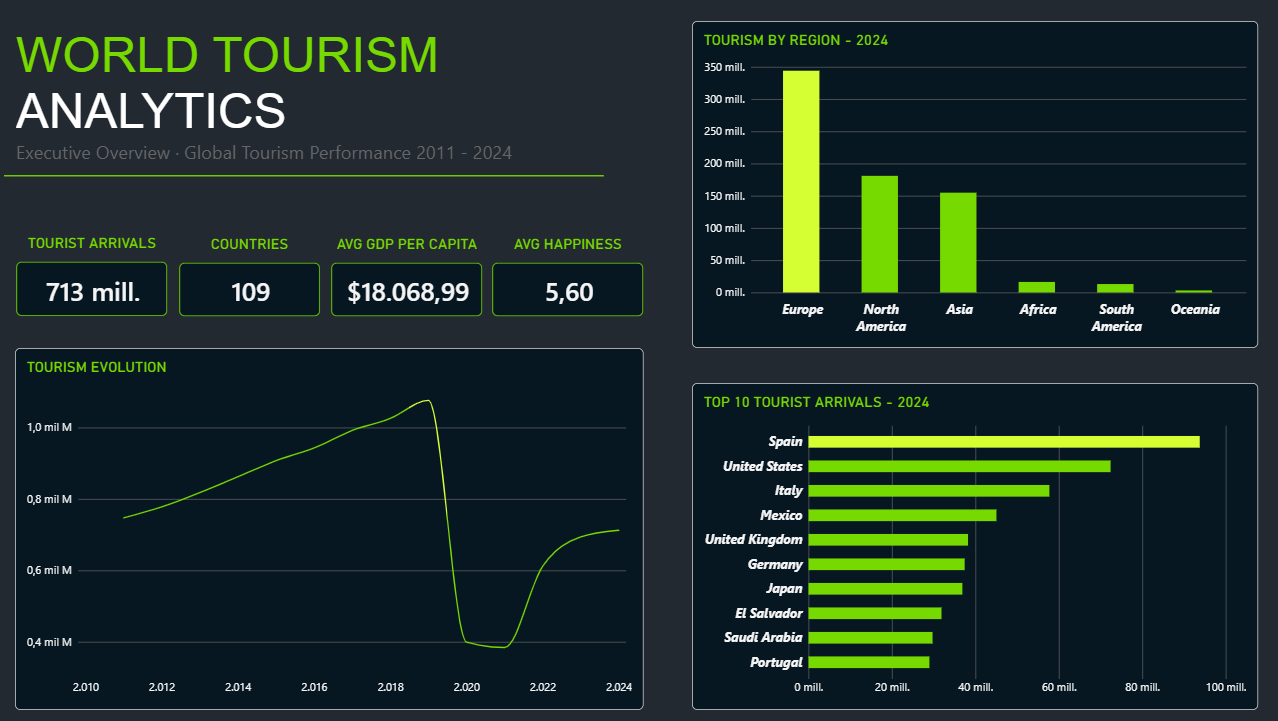

What the dashboard file says about the page in this screenshot:
{"tool":"powerbi","page":{"name":"EXECUTIVE OVERVIEW","canvas":[1920,1080],"ordinal":0},"visuals":[{"type":"cardVisual","title":"TOURIST ARRIVALS","fields":{"Data":["core fact_country_profile.Latest Tourist Arrivals"]},"box":[33.7,348.8,221.5,121],"z":0},{"type":"cardVisual","title":"COUNTRIES","fields":{"Data":["core fact_country_profile.Countries"]},"box":[270.7,350.1,206,119.9],"z":1000},{"type":"cardVisual","title":"AVG GDP PER CAPITA","fields":{"Data":["core fact_country_profile.Average GDP per Capita"]},"box":[492.9,350.1,221.5,119.4],"z":2000},{"type":"cardVisual","title":"AVG HAPPINESS","fields":{"Data":["core fact_country_profile.Average Happiness"]},"box":[728.5,350.1,221.5,119.4],"z":3000},{"type":"lineChart","title":"TOURISM EVOLUTION","fields":{"Category":["core dim_year.year"],"Y":["core fact_country_profile.Total Tourist Arrivals"]},"box":[32.1,515,917.1,527.9],"z":4000},{"type":"clusteredBarChart","title":"TOP 10 TOURIST ARRIVALS - 2024","fields":{"Category":["core dim_country.country"],"Y":["core fact_country_profile.Latest Tourist Arrivals"]},"box":[1019.8,566.1,825.8,477.1],"z":5000},{"type":"clusteredColumnChart","title":"TOURISM BY REGION - 2024","fields":{"Category":["core dim_region.world_region"],"Y":["core fact_country_profile.Latest Tourist Arrivals"]},"box":[1019.8,37.9,825.8,477.1],"z":6000},{"type":"textbox","box":[33,47.1,768.3,301.7],"z":7000},{"type":"shape","box":[15.7,227.8,875.2,72.3],"z":8000}]}

Visuals, with their boxes in screenshot pixels (x1, y1, x2, y2), scaled from the page's 1920x1080 canvas onto the 1278x721 screenshot:
"TOURIST ARRIVALS" cardVisual: detection(22, 233, 170, 314)
"COUNTRIES" cardVisual: detection(180, 234, 317, 314)
"AVG GDP PER CAPITA" cardVisual: detection(328, 234, 476, 313)
"AVG HAPPINESS" cardVisual: detection(485, 234, 632, 313)
"TOURISM EVOLUTION" lineChart: detection(21, 344, 632, 696)
"TOP 10 TOURIST ARRIVALS - 2024" clusteredBarChart: detection(679, 378, 1228, 696)
"TOURISM BY REGION - 2024" clusteredColumnChart: detection(679, 25, 1228, 344)
textbox: detection(22, 31, 533, 233)
shape: detection(10, 152, 593, 200)
